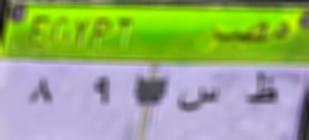8: (25, 76, 55, 110)
9: (88, 73, 113, 110)
Thaa: (245, 70, 284, 108)
seen: (176, 85, 224, 113)
